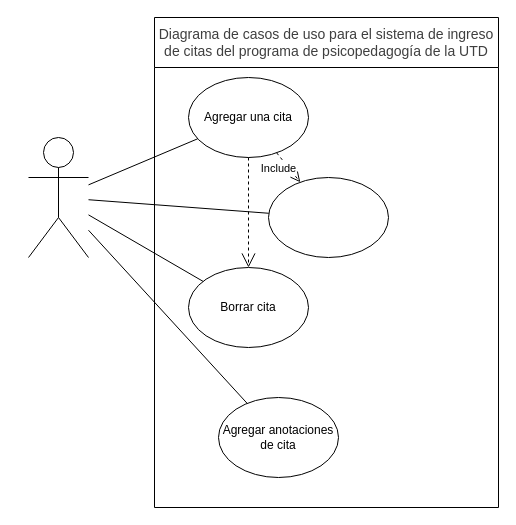
The diagram is 516 pixels wide and 525 high, and some of its shapes have lost their labels. Here are the shapes that lost their labels. From the top down, the box of each, then its label:
(28, 136, 88, 258): Psicopedagogo
(268, 176, 388, 258): Modificar una cita
